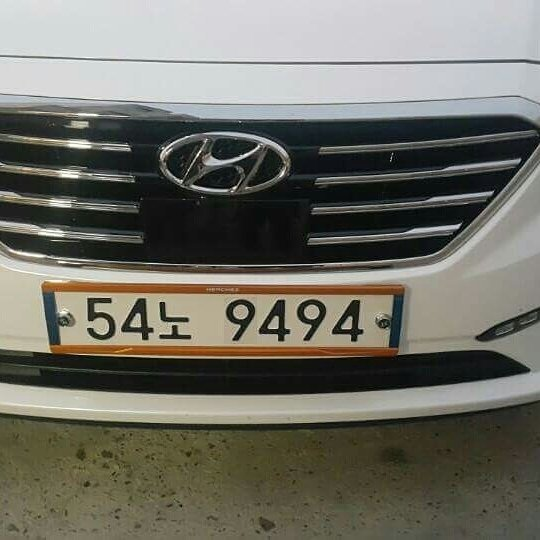plate: (43, 283, 400, 355)
